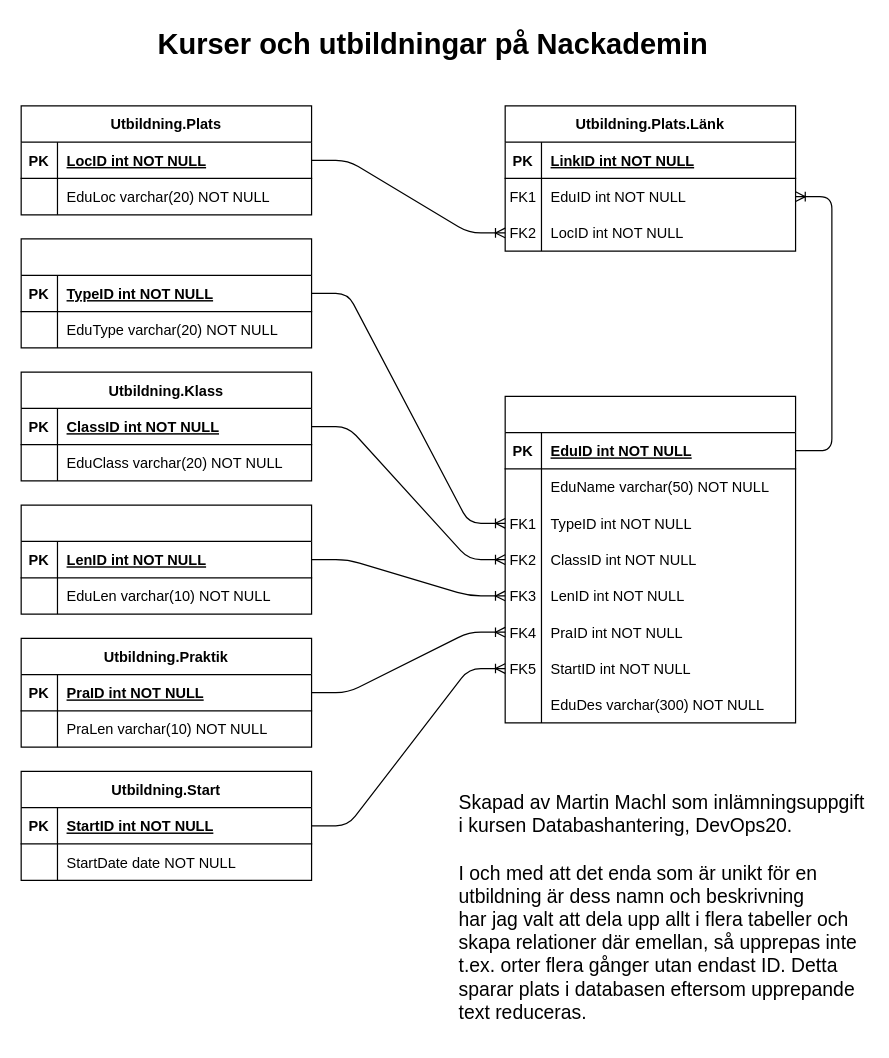
This 889x1058 diagram has some shape labels left out. Each missing label, with the box of its shape:
Utbildning: (504, 395, 796, 723)
Utbildning.Längd: (20, 504, 312, 614)
Utbildning.Typ: (20, 238, 312, 348)
